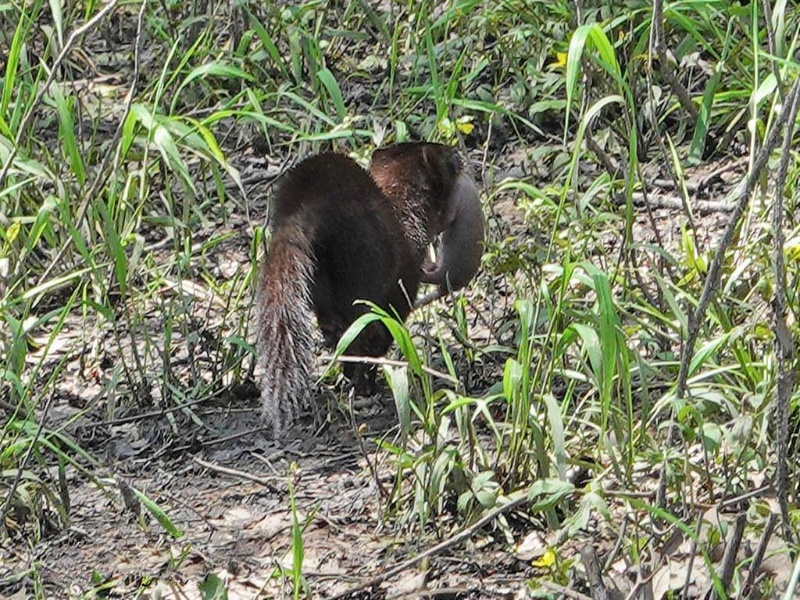minkish: (252, 137, 462, 427)
